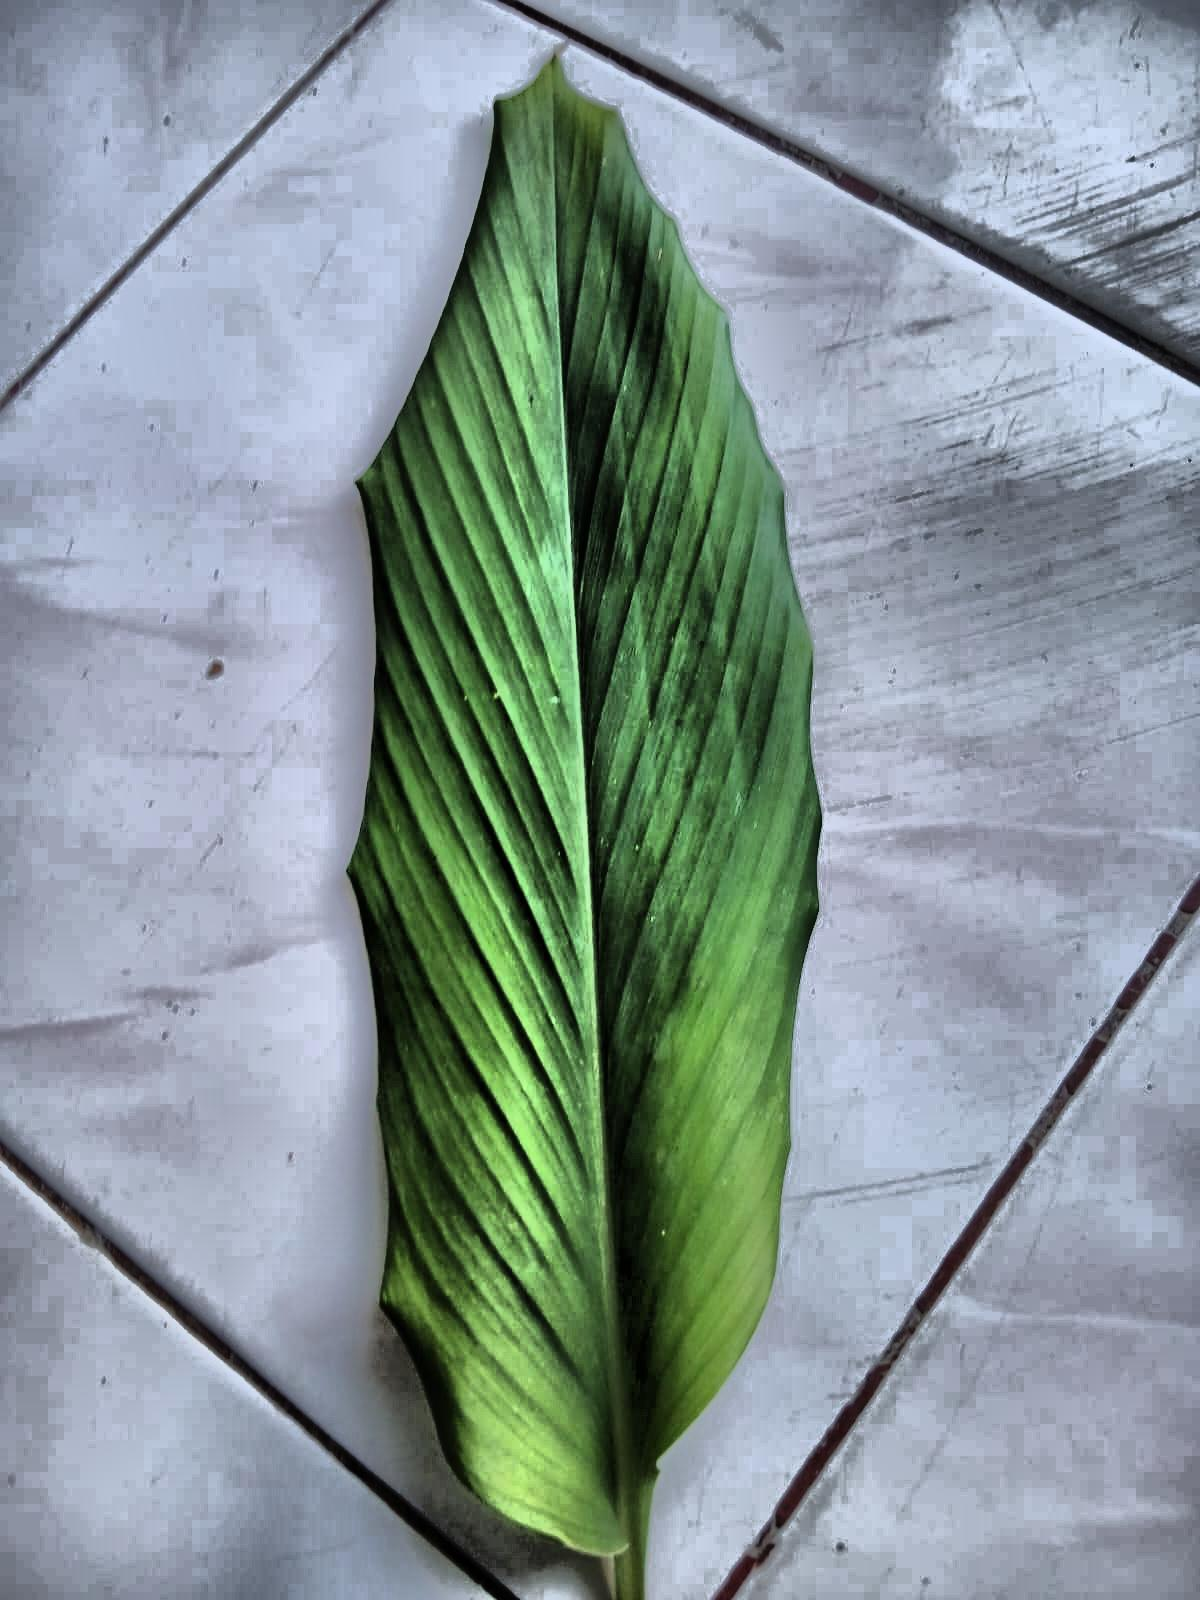daun kunyit: (347, 58, 821, 1599)
